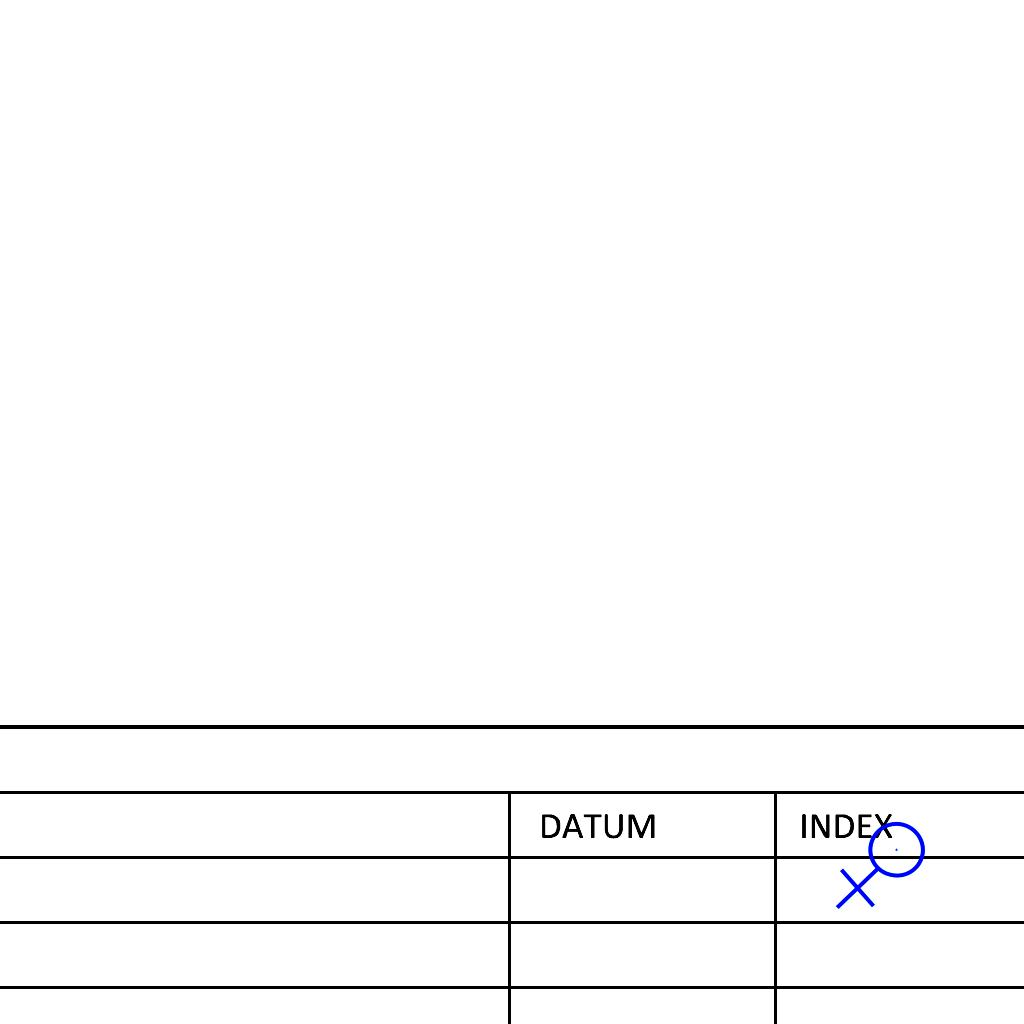Elektroanschluss_allgemein_230V_Geraeteanschlussdose_230V: (835, 820, 934, 914)
